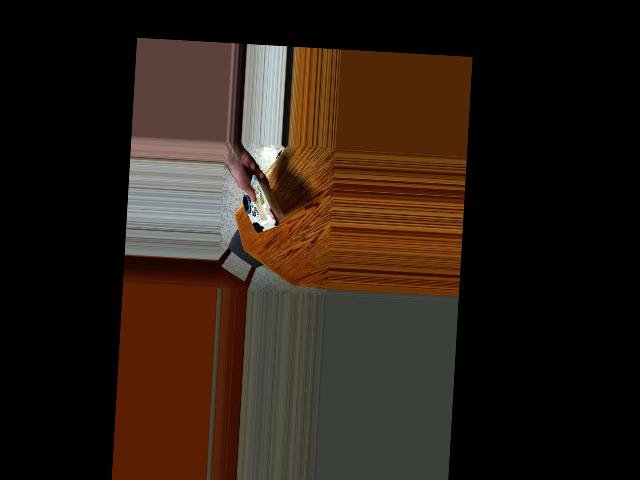cheese: (233, 183, 290, 231)
